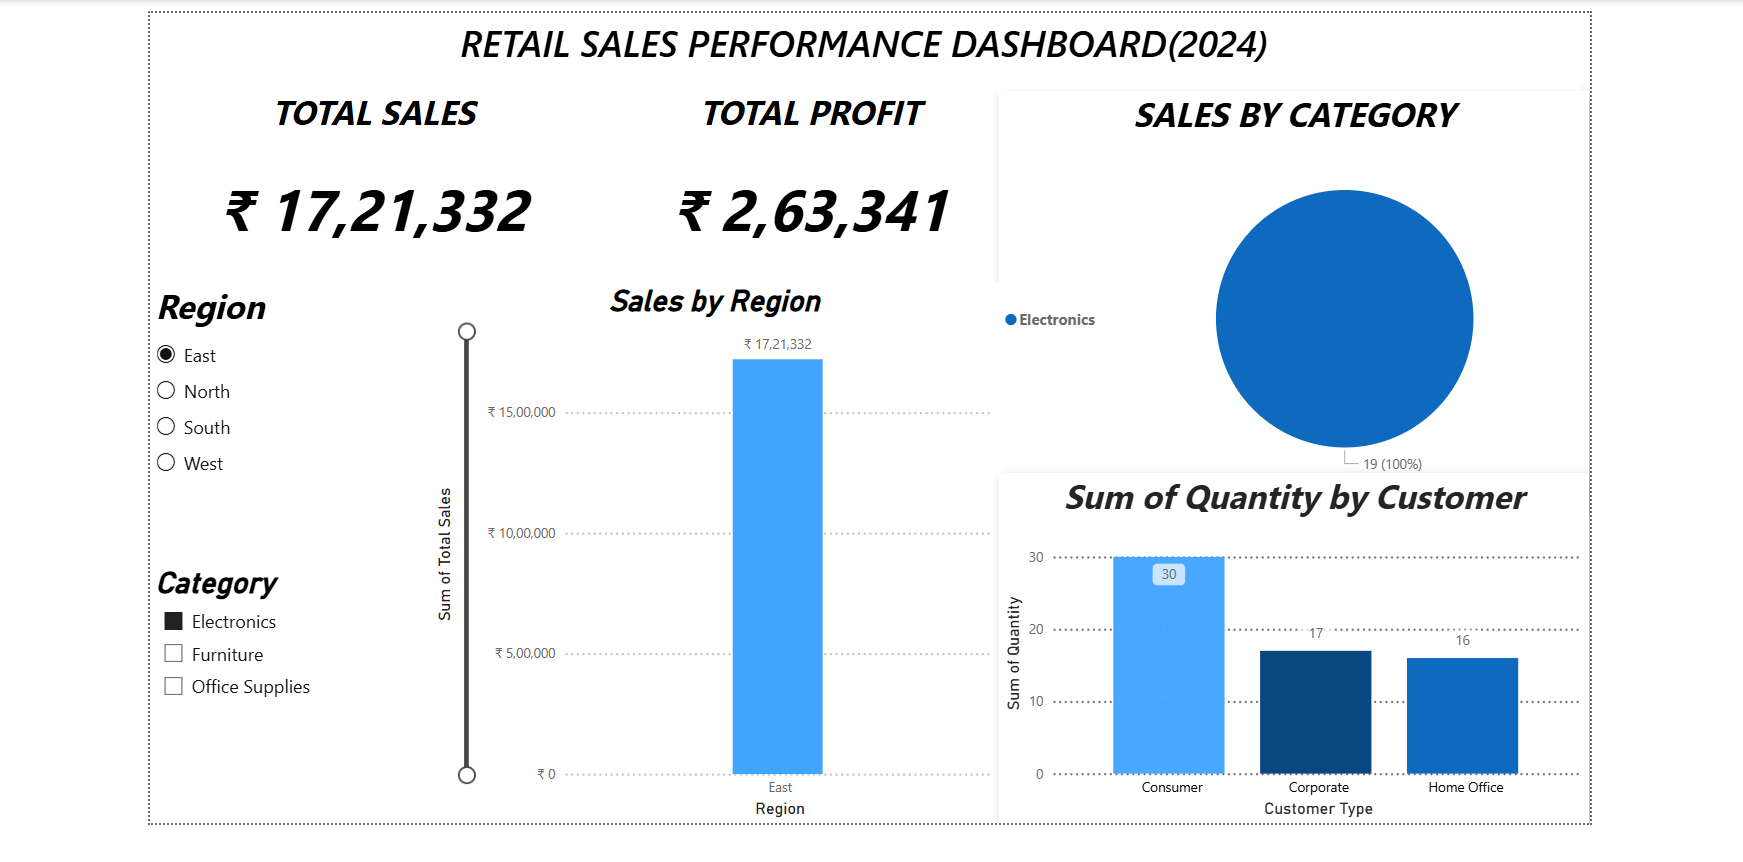

What the dashboard file says about the page in this screenshot:
{"tool":"powerbi","page":{"name":"Page 1","canvas":[1280,720],"ordinal":0},"visuals":[{"type":"card","title":"TOTAL PROFIT","fields":{"Values":["select","Sum(Retail_Sales_(1).Profit)"]},"box":[397.9,68.3,377.5,171.4],"z":0},{"type":"card","title":"TOTAL SALES","fields":{"Values":["Sum(Retail_Sales_(1).Total Sales)","select"]},"box":[0,68.3,396.7,171.4],"z":1000},{"type":"pieChart","title":"SALES BY CATEGORY","fields":{"Category":["Retail_Sales_(1).Category"],"Y":["CountNonNull(Retail_Sales_(1).Category)"]},"box":[754.9,68.3,524.7,366.9],"z":2000},{"type":"clusteredColumnChart","title":" Sales by Region","fields":{"Category":["Retail_Sales_(1).Region"],"Y":["Sum(Retail_Sales_(1).Total Sales)"]},"box":[249.2,239.7,505.7,480.5],"z":3000},{"type":"listSlicer","fields":{"Values":["Retail_Sales_(1).Region"]},"box":[0,239.7,239.7,245],"z":4000},{"type":"slicer","title":"Category","fields":{"Values":["Retail_Sales_(1).Category"]},"box":[0,484.7,239.7,235.5],"z":5000},{"type":"textbox","box":[0,0,1270.1,68.3],"z":6000},{"type":"lineStackedColumnComboChart","title":"Sum of Quantity by Customer ","fields":{"Category":["Retail_Sales_(1).Customer Type"],"Y":["Sum(Retail_Sales_(1).Quantity)"]},"box":[754.9,409,524.7,311.2],"z":7000}]}

Visuals, with their boxes on the page's 1280x720 design canvas (x1, y1, x2, y2). These are canvas units, not pixel positions in the 1743x862 screenshot, which may show the page scaled, cropped or inside an application window:
"TOTAL PROFIT" card: <region>398, 68, 775, 240</region>
"TOTAL SALES" card: <region>0, 68, 397, 240</region>
"SALES BY CATEGORY" pieChart: <region>755, 68, 1280, 435</region>
" Sales by Region" clusteredColumnChart: <region>249, 240, 755, 720</region>
listSlicer - Retail_Sales_(1).Region: <region>0, 240, 240, 485</region>
"Category" slicer: <region>0, 485, 240, 720</region>
textbox: <region>0, 0, 1270, 68</region>
"Sum of Quantity by Customer " lineStackedColumnComboChart: <region>755, 409, 1280, 720</region>
